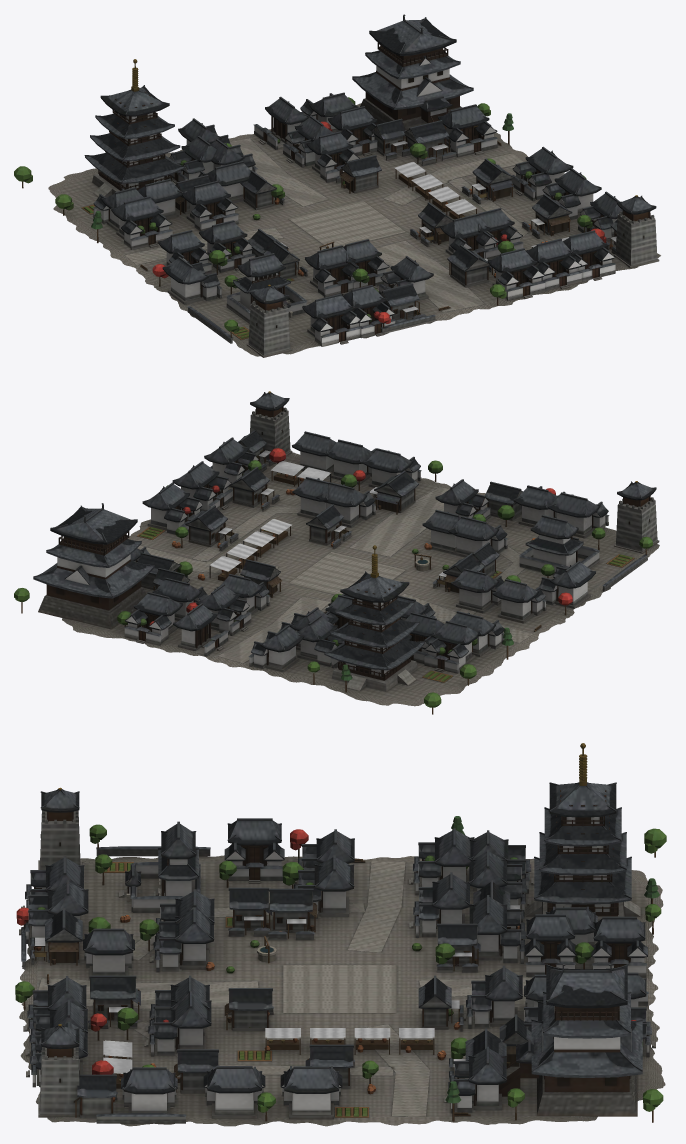
The model's file is kingdoms-town-big-a-japan-23208946.glb.
3 views of the same model, one above another, from view 1: azimuth 30°, elevation 25°; view 2: azimuth 150°, elevation 25°; view 3: azimuth 270°, elevation 25° (orthographic). The views are drawn at different scales.
Parts seen in each view (by area): view 1: LOD0; view 2: LOD0; view 3: LOD0.
Part boxes in pixels (x1,y1,x2,y2): LOD0: [14, 14, 660, 357]; LOD0: [14, 391, 659, 714]; LOD0: [15, 743, 666, 1126].
Size of what is drawn, in the model's own units: 8.05 by 2.33 by 8.12.
Materials: 3 (3 with a texture image).
